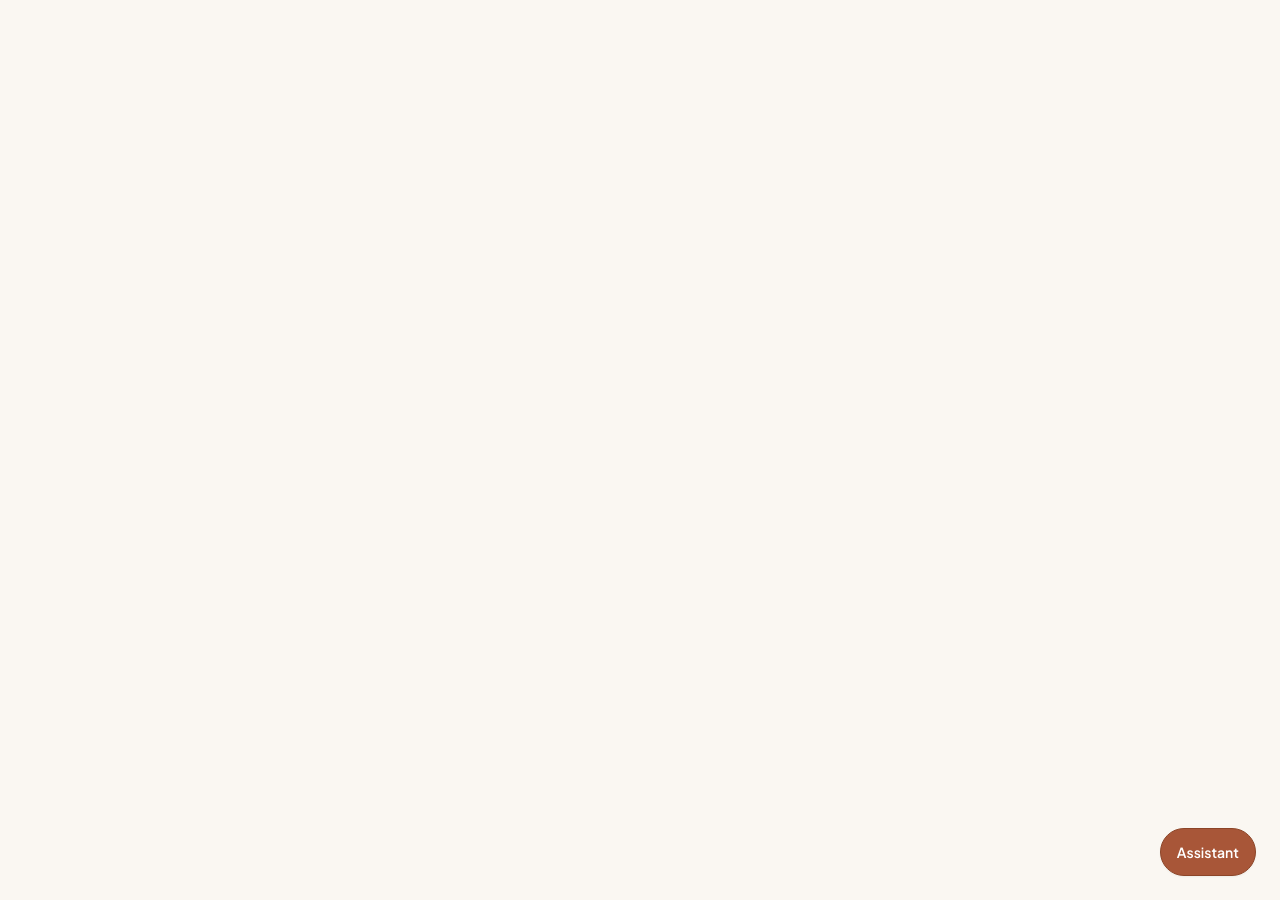
Test: AiAssistant guest access › still offers the Swaps tab to guests
The width and height of the screenshot is (1280, 900).
Click the button with aria-label "open cooking assistant" at (1208, 852), box x1=1160 y1=828 x2=1256 y2=876
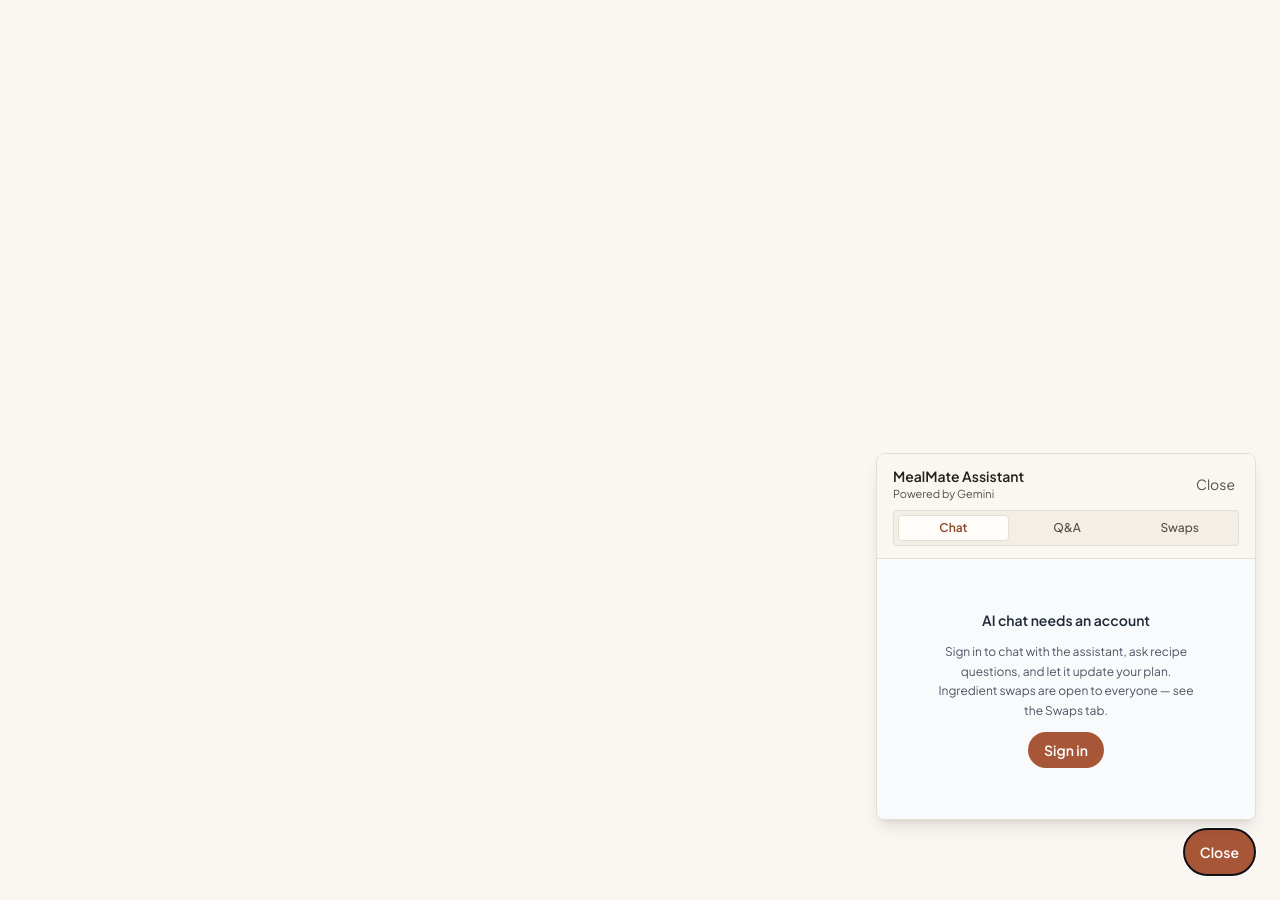
Click the button "Swaps" at (1180, 528), box x1=1125 y1=515 x2=1234 y2=541
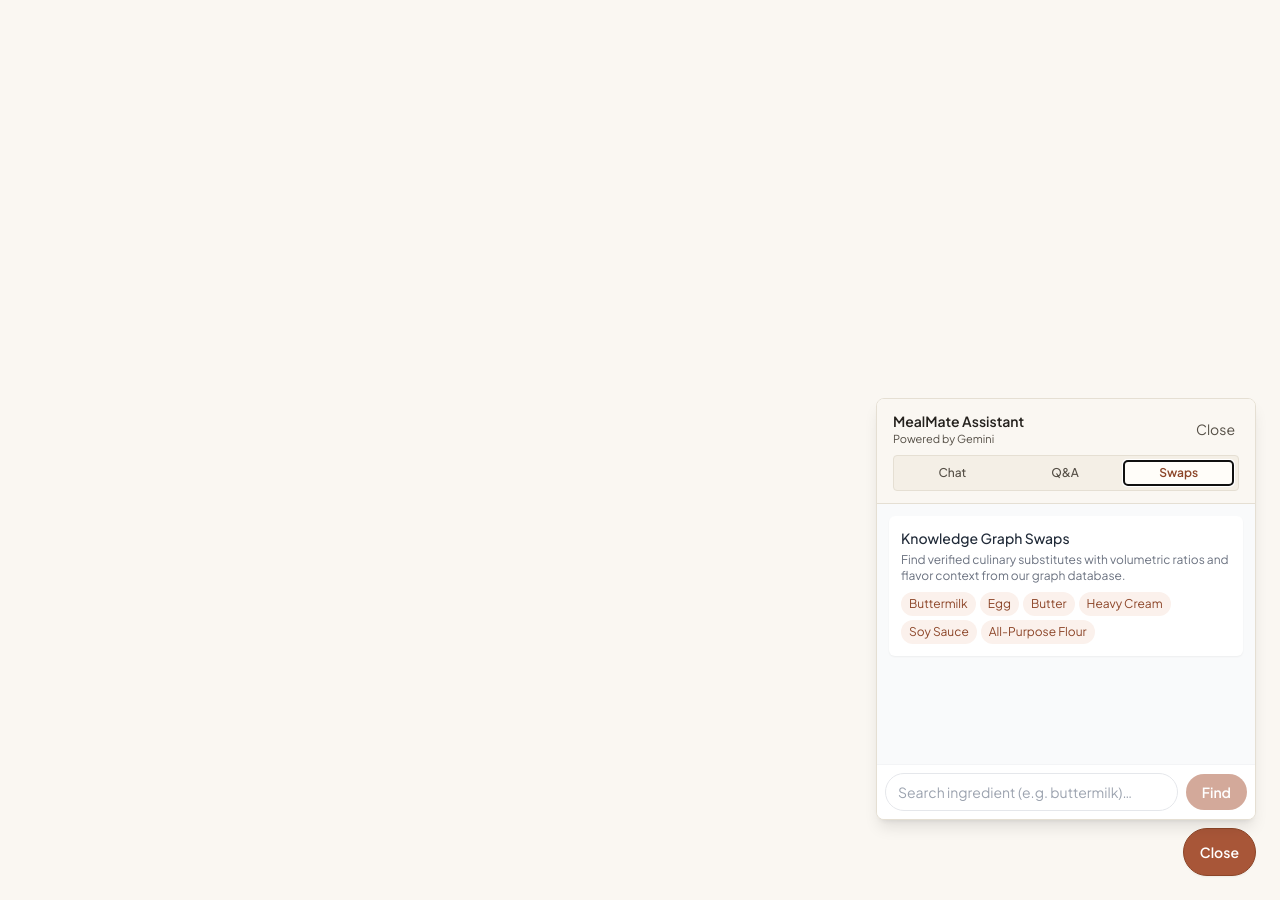
Expected: the field with placeholder "Search ingredient (e.g. buttermilk)…" is shown, x1=885 y1=773 x2=1178 y2=811
Expected: the text "AI chat needs an account" is gone
